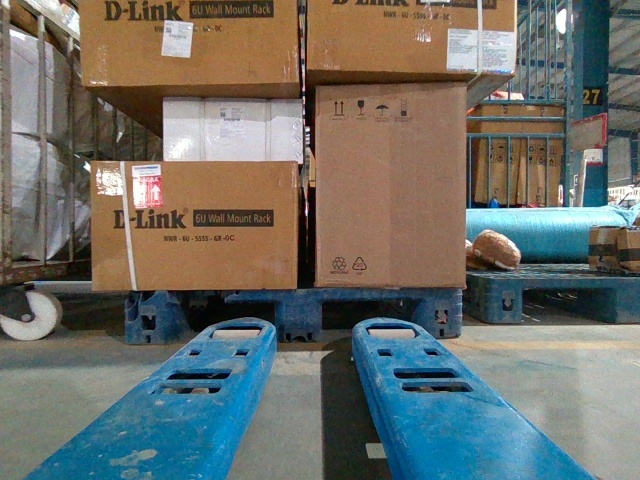block: (467, 273, 522, 323), (278, 285, 322, 344), (127, 286, 168, 342), (420, 286, 462, 338)
front: (128, 285, 463, 338)
hole pallet: (316, 288, 425, 342), (162, 294, 282, 343), (518, 283, 623, 322)
